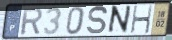0: (65, 6, 86, 36)
3: (43, 6, 64, 37)
H: (129, 4, 154, 35)
N: (106, 4, 133, 36)
R: (20, 7, 44, 36)
S: (86, 5, 109, 36)
